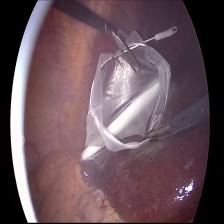Grasper: (106, 17, 144, 79), (143, 115, 174, 149)
Specimen Bag: (78, 20, 186, 163)
